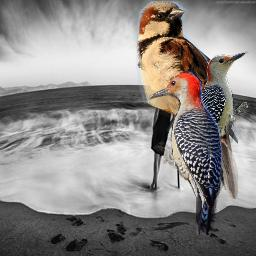Swallow: (135, 1, 238, 199)
Woodpecker: (149, 71, 223, 235), (199, 49, 250, 195)
